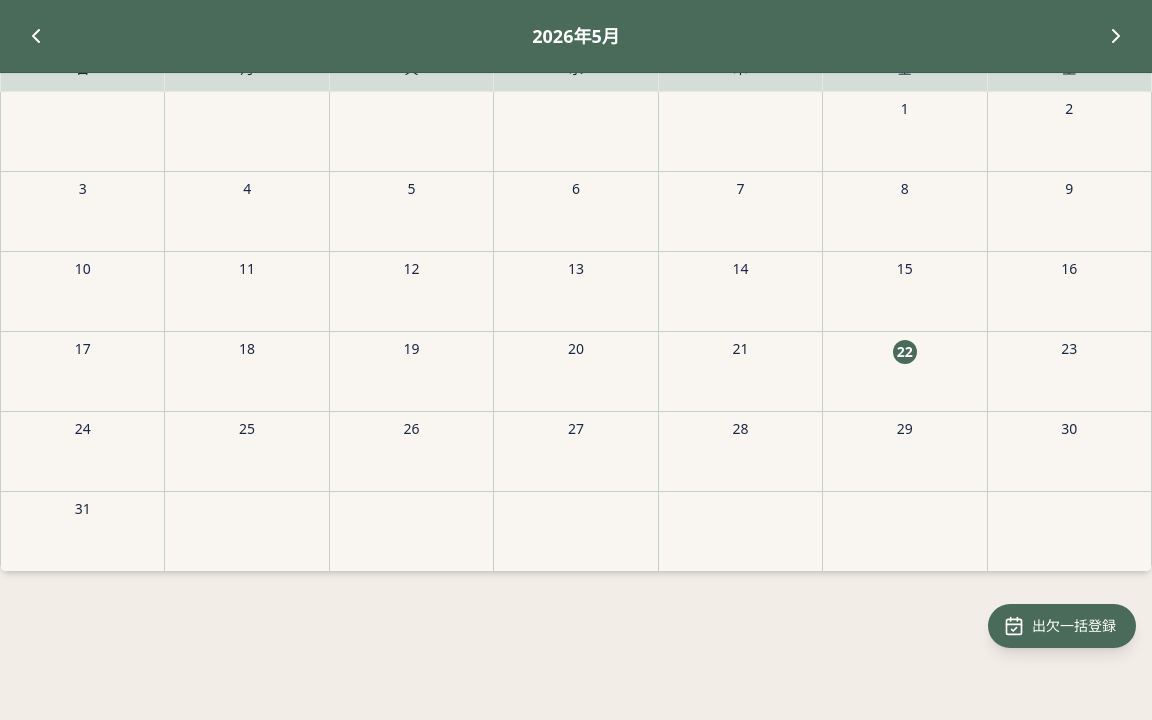
Scenario: PracticeList × resolveAttendanceMode の連携 › FABを押すと AttendanceRegisterModal が両ボタン（参加登録/キャンセル登録）で開く（当月扱い）
What coordinates should you click on to do the following:
click the button "出欠一括登録"
I would click on:
 (1062, 626)
Its box is [988,604,1136,648].
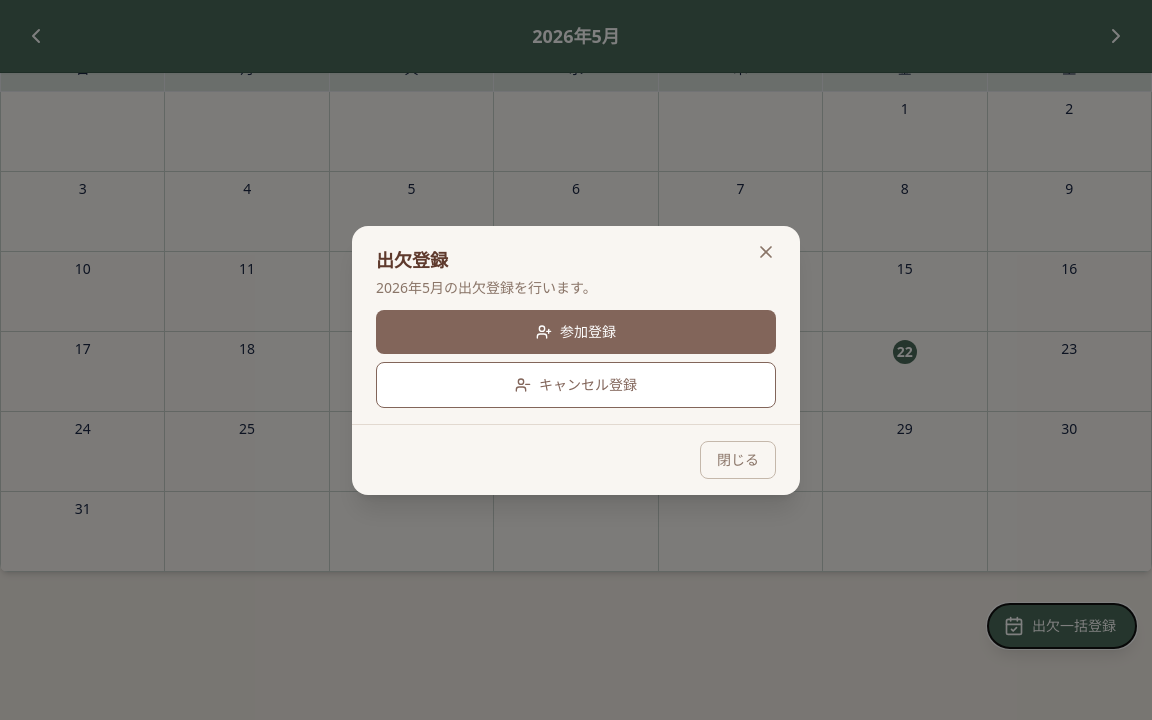
Expected: the button "参加登録" is shown, [376,310,776,354]
Expected: the button "キャンセル登録" is shown, [376,362,776,408]
